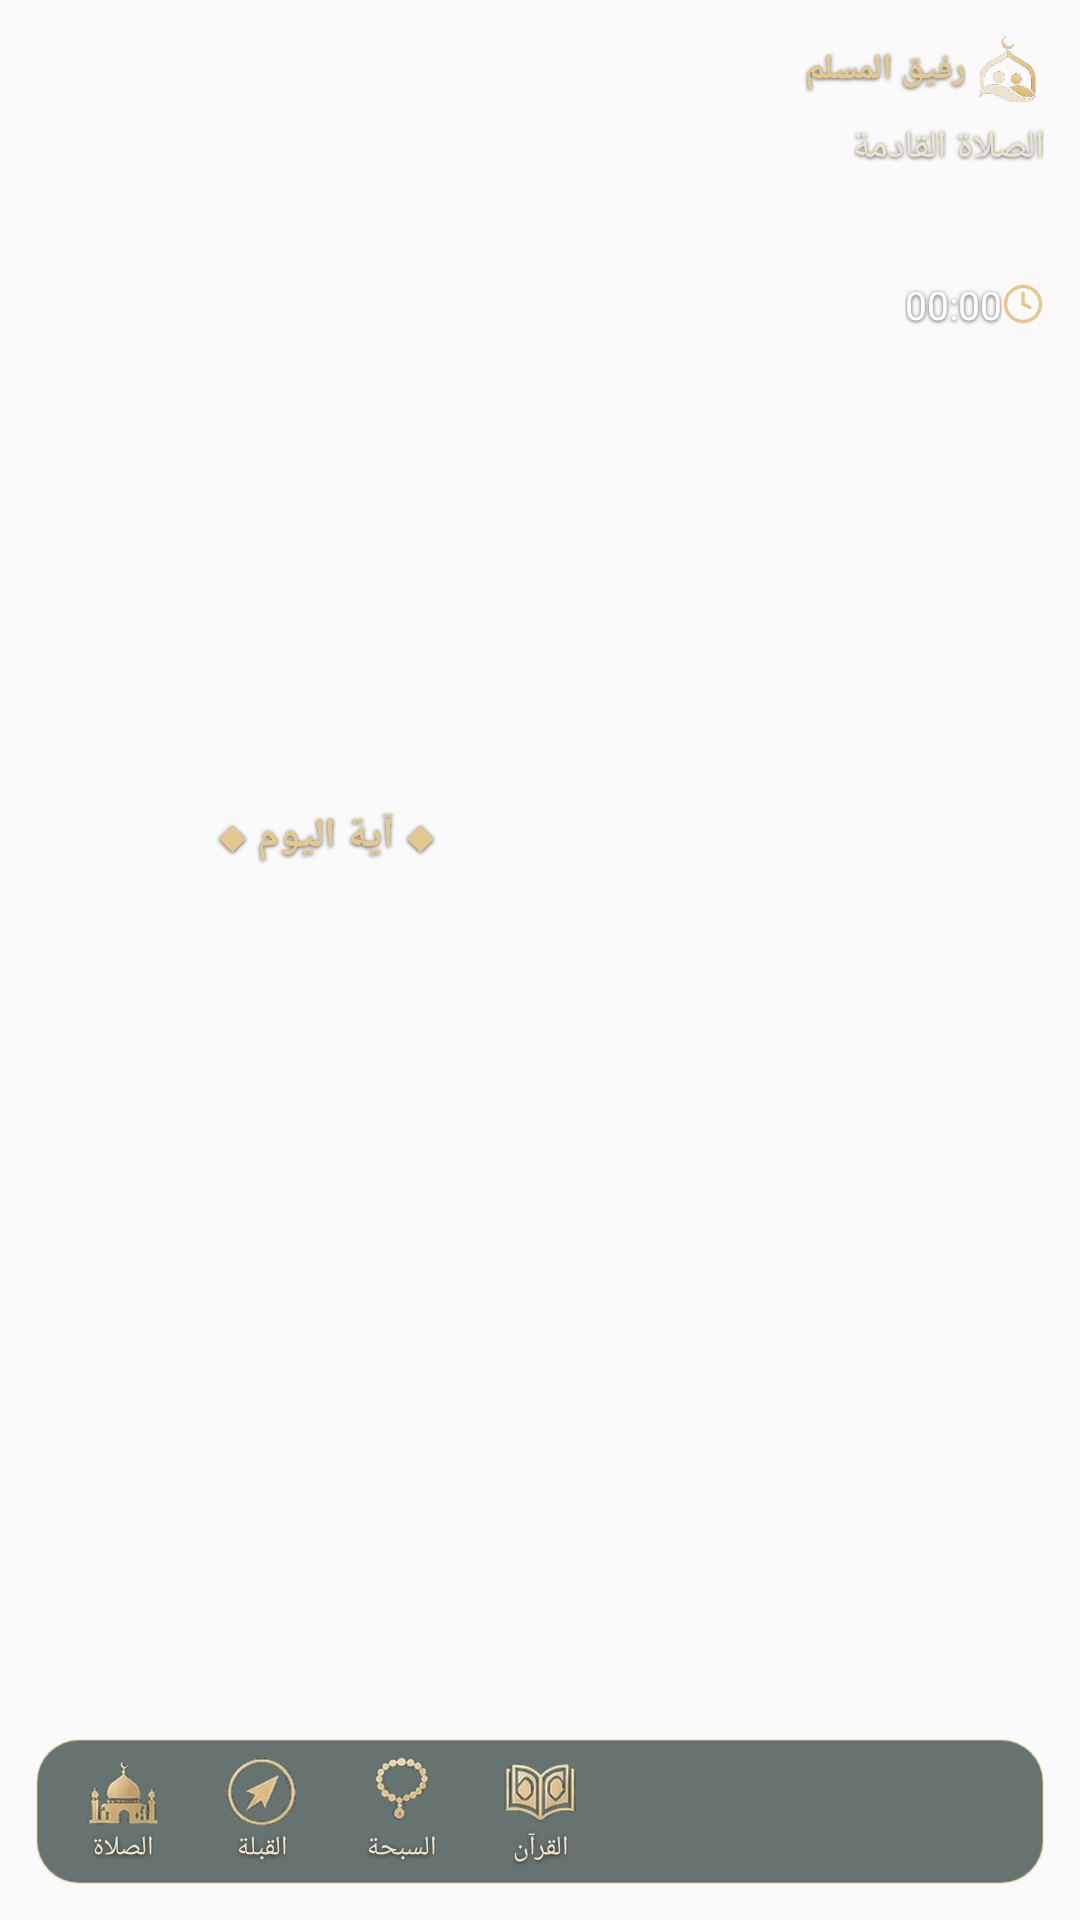

Named icons in this screenshot (1080×1920) and their centers, [x,y]:
clock: [1023,304]
